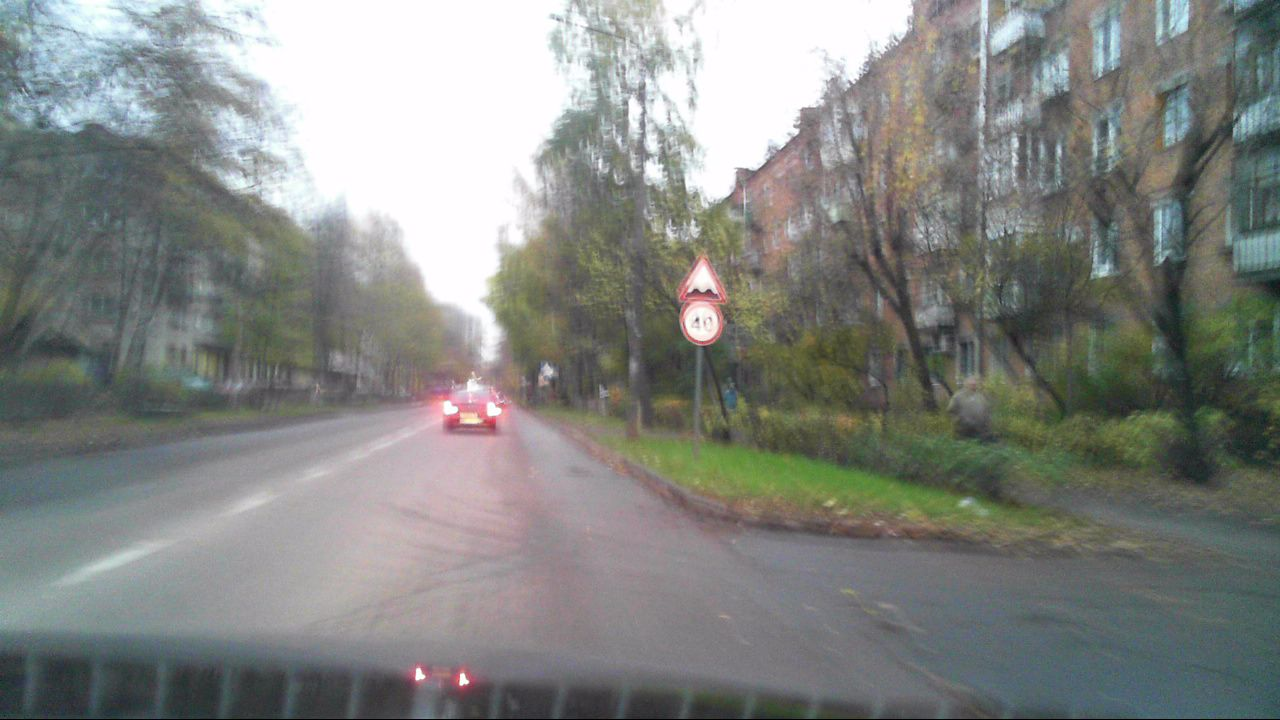speed_warning_40: (680, 301, 723, 345)
